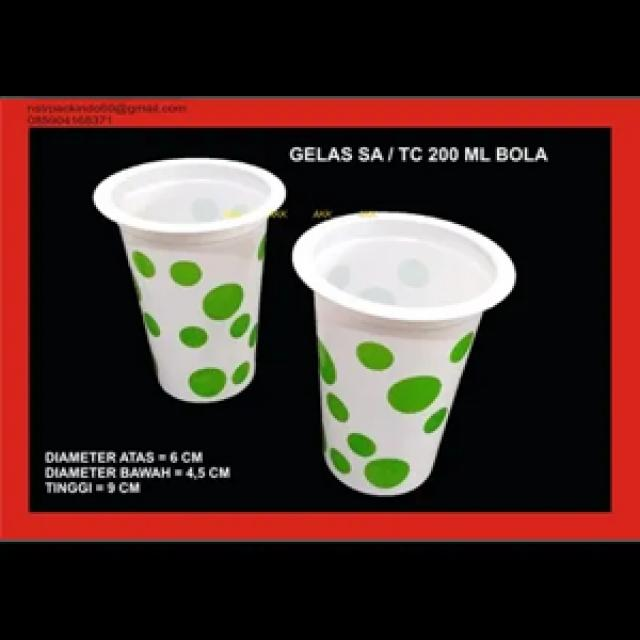plastic cup: (288, 200, 523, 506), (90, 149, 290, 416)
